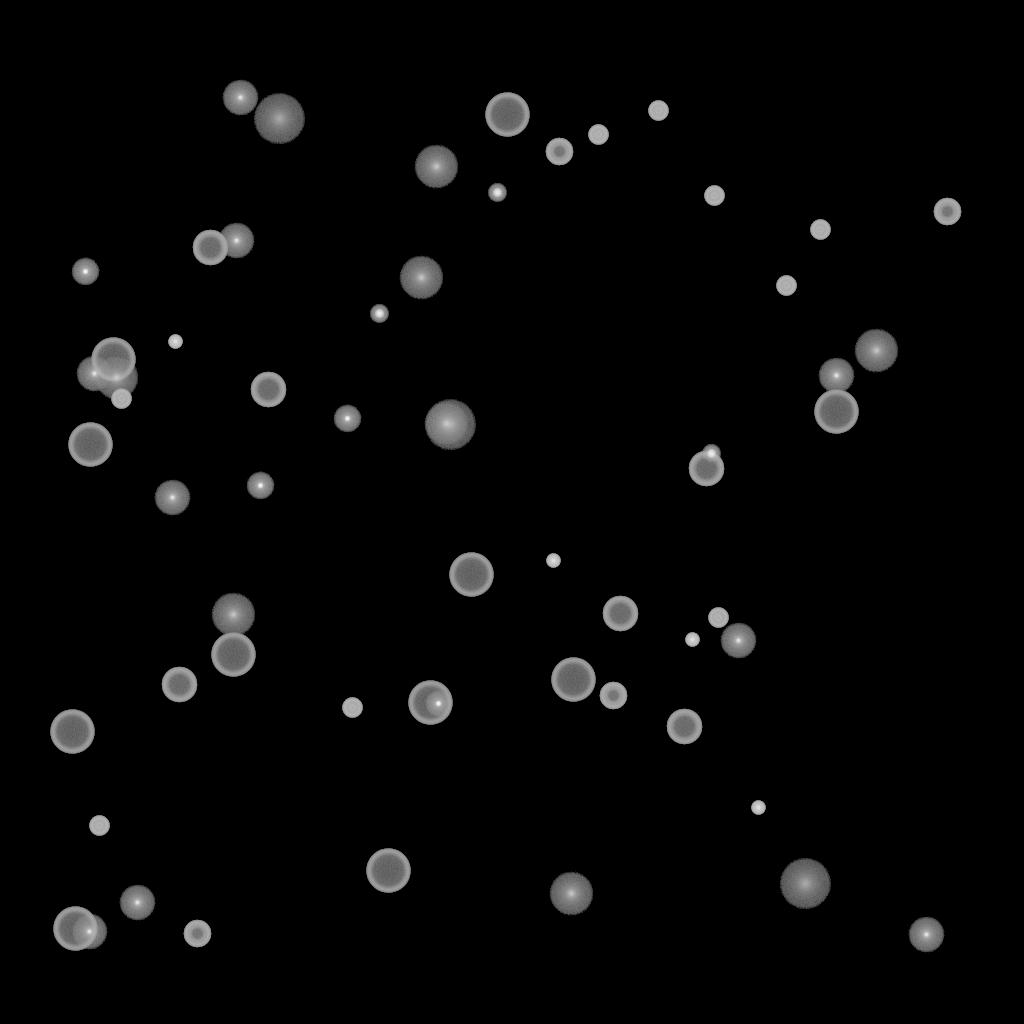depth:-10: (424, 690, 452, 718), (71, 258, 99, 286), (333, 405, 361, 433), (246, 472, 274, 500)
depth:-20: (488, 184, 506, 202), (370, 305, 388, 323), (702, 445, 720, 463)
depth:-30: (546, 554, 560, 568), (751, 801, 765, 815), (685, 633, 699, 647), (168, 335, 182, 349)
depth:-40: (342, 698, 362, 718), (588, 125, 608, 145), (111, 389, 131, 409), (89, 816, 109, 836), (776, 276, 796, 296), (704, 186, 724, 206), (708, 608, 728, 628), (648, 101, 668, 121), (810, 220, 830, 240)
depth:-50: (183, 920, 211, 948), (933, 198, 961, 226), (599, 682, 627, 710), (545, 138, 573, 166)
depth:-60: (250, 372, 286, 408), (192, 230, 228, 266), (666, 709, 702, 745), (161, 667, 197, 703), (688, 451, 724, 487), (602, 596, 638, 632)
depth:-70: (485, 93, 529, 137), (551, 658, 595, 702), (814, 390, 858, 434), (408, 681, 452, 725), (211, 633, 255, 677), (366, 849, 410, 893), (53, 907, 97, 951), (449, 553, 493, 597), (91, 338, 135, 382), (50, 710, 94, 754), (68, 423, 112, 467)
depth:0: (720, 623, 756, 659), (76, 356, 112, 392), (154, 480, 190, 516), (222, 80, 258, 116), (119, 885, 155, 921), (71, 914, 107, 950), (218, 223, 254, 259), (908, 917, 944, 953), (818, 358, 854, 394)
depth:10: (399, 256, 443, 300), (94, 356, 138, 400), (414, 145, 458, 189), (424, 402, 468, 446), (211, 593, 255, 637), (549, 872, 593, 916), (854, 329, 898, 373)
depth:20: (424, 400, 476, 450), (253, 94, 305, 144), (779, 859, 831, 909)
